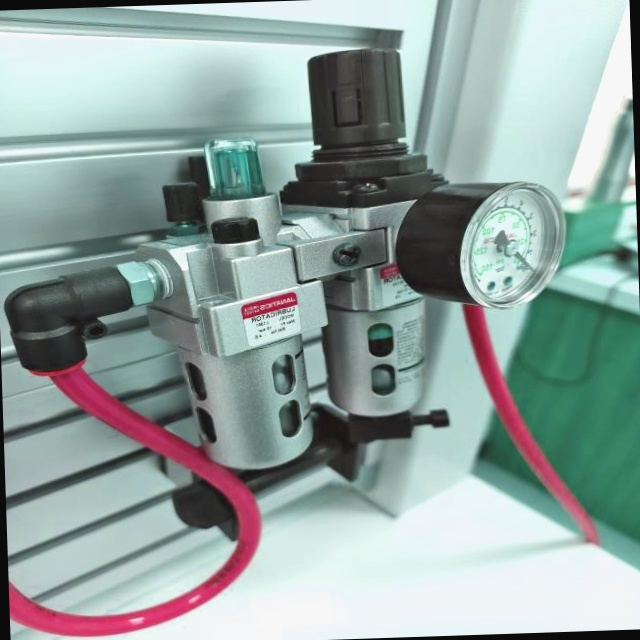FRL unit: (26, 29, 581, 559)
